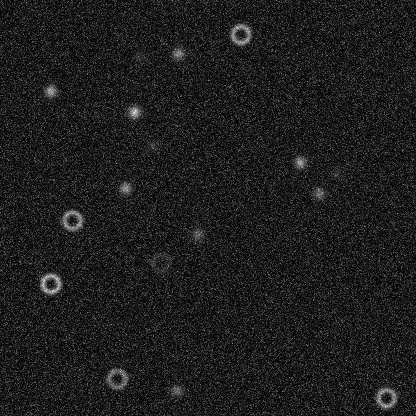Ring: (148, 250, 172, 274), (38, 271, 62, 295), (60, 208, 84, 232), (104, 366, 128, 390), (228, 22, 252, 46), (374, 385, 398, 409)
Spot: (133, 47, 149, 63), (117, 180, 133, 196), (310, 185, 326, 201), (126, 104, 142, 120), (189, 225, 205, 241), (168, 382, 184, 398), (144, 138, 160, 154), (169, 45, 185, 61), (291, 154, 307, 170), (328, 164, 344, 180), (42, 83, 58, 99)
